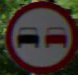No overtake: (8, 0, 73, 66)
